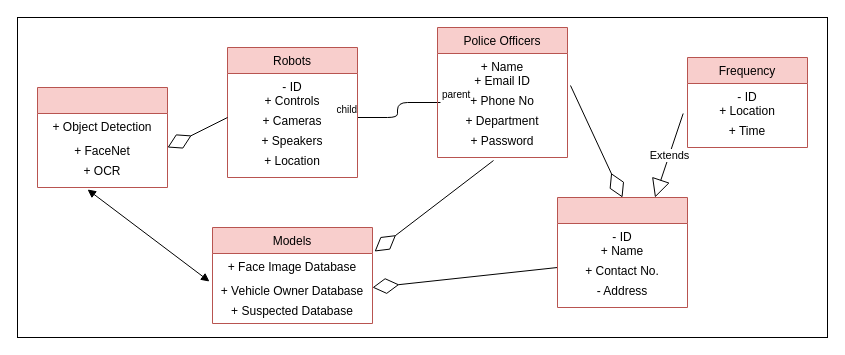
This 845x355 diagram has some shape labels left out. Here are the shapes that lost their labels. From the top down, the box of each, then its label:
(36, 86, 168, 188): Algorithms
(556, 196, 688, 308): Detected
